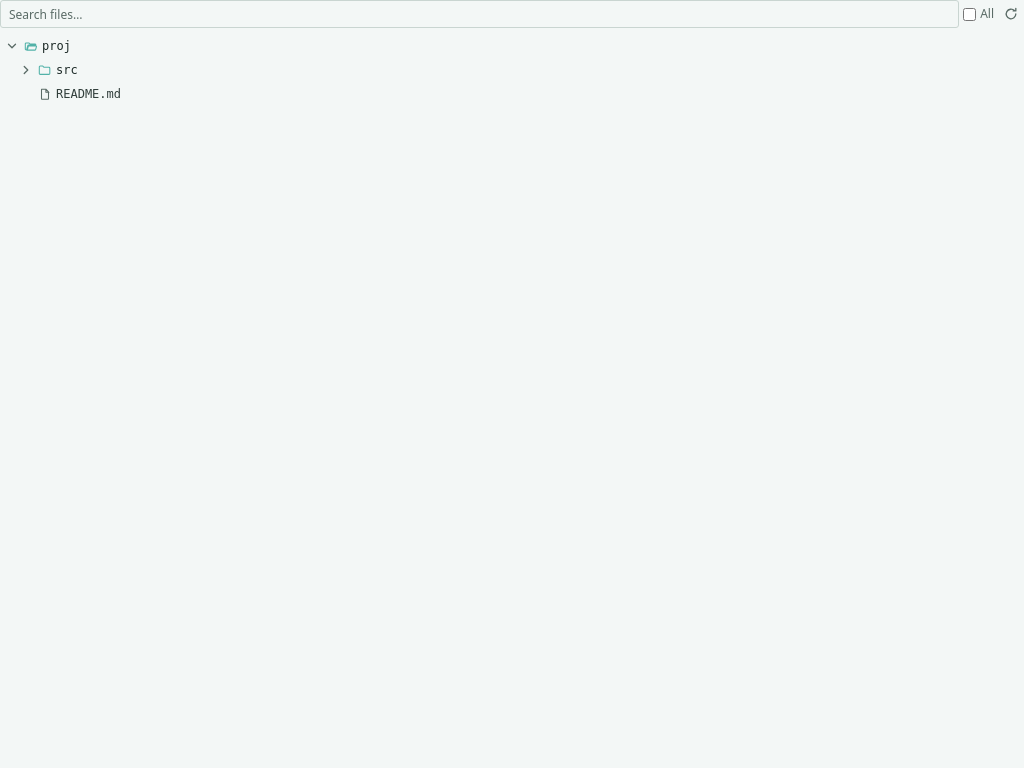
Test: FileTree 右键菜单 › 删除：确认框出现，确认后以 (wsPath, relPath) 调 deleteEntry 并刷新树
This screenshot has width=1024, height=768.
Expected: the text "README.md" is shown, left=56, top=86, right=121, bottom=102
Right-click the button "README.md".
right_click(89, 94)  # box left=14, top=84, right=1000, bottom=104
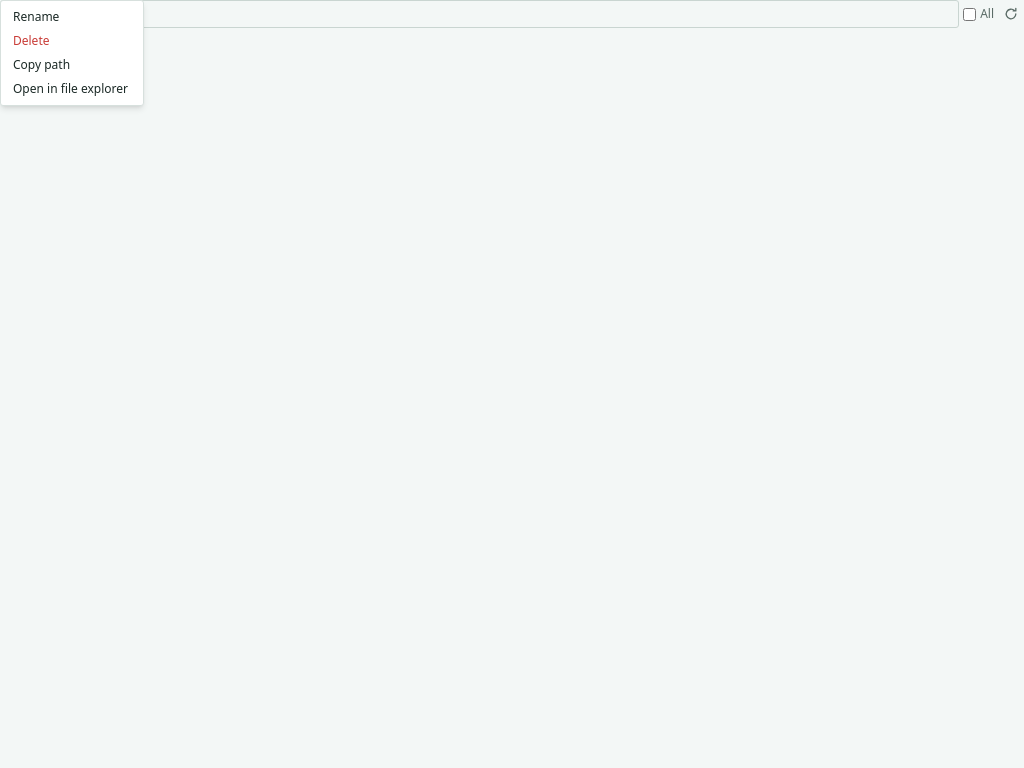
Press the mouse on the menu item "Delete" at point(72, 41), box left=5, top=29, right=139, bottom=53
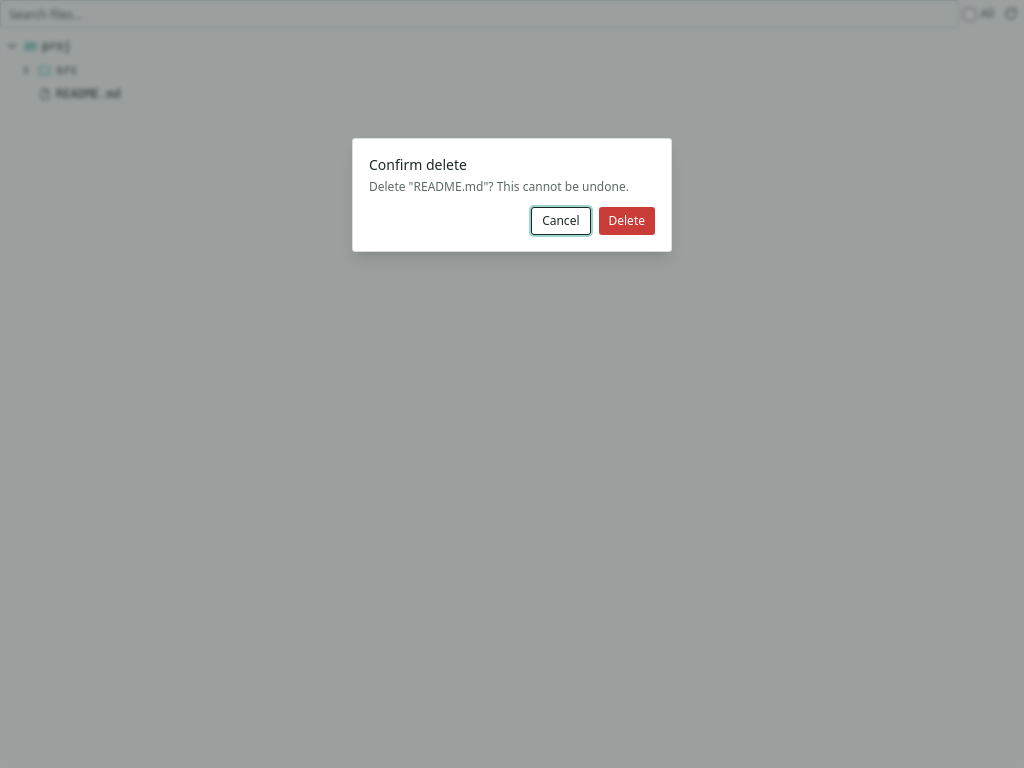
Expected: the heading "Confirm delete" is shown, left=369, top=155, right=467, bottom=174
Click the button "Delete".
click(627, 221)  # box left=598, top=207, right=655, bottom=235
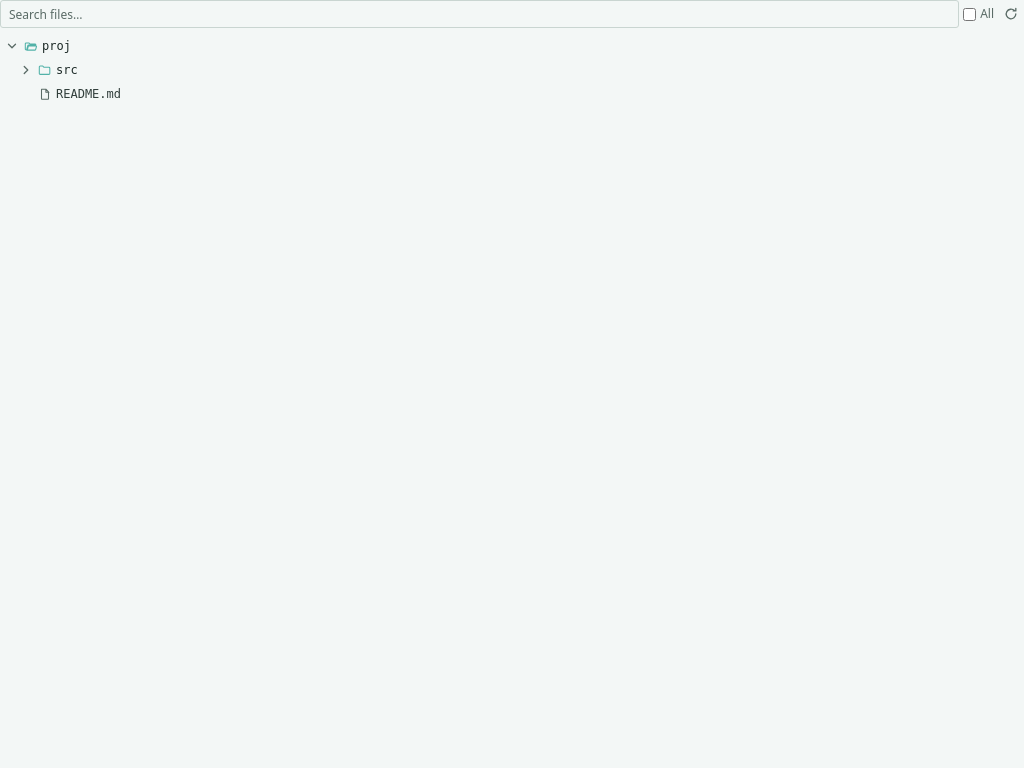
Expected: the heading "Confirm delete" is gone
